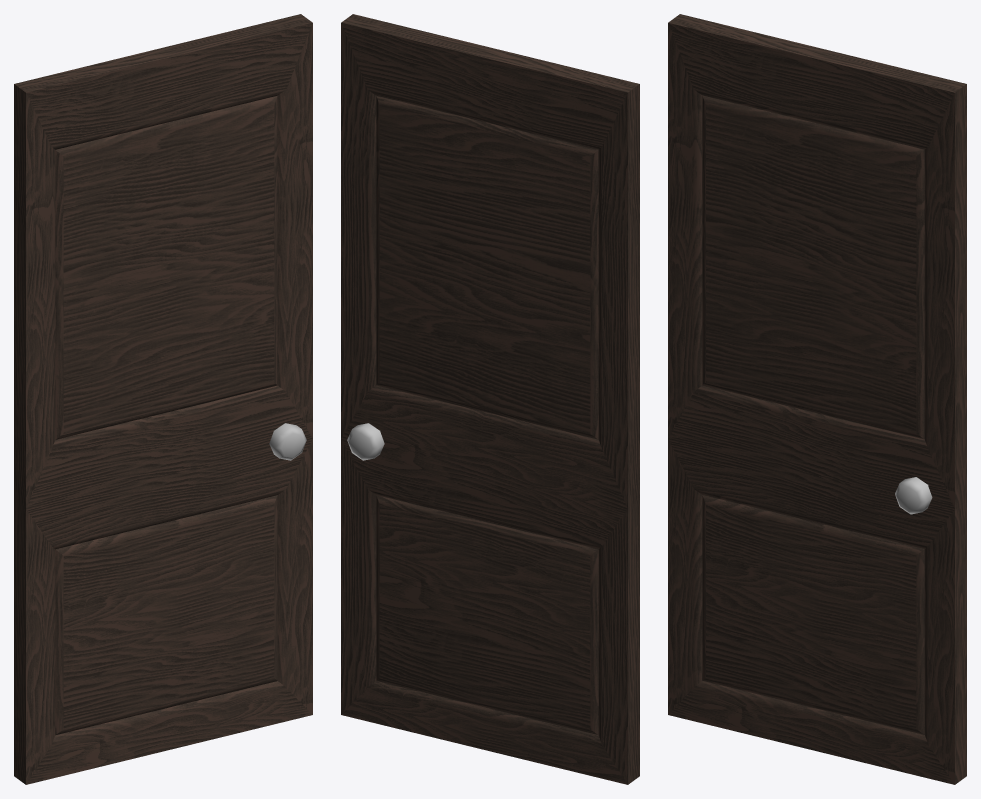
The model's file is door_005.fbx.
3 renders of one model, left to right at view 1: azimuth 30°, elevation 25°; view 2: azimuth 150°, elevation 25°; view 3: azimuth 330°, elevation 25°, orthographic.
Parts seen in each view (by area): view 1: door_005; view 2: door_005; view 3: door_005.
Boxes of the visible parts, bbox=[...] form: door_005: bbox=[14, 14, 312, 784]; door_005: bbox=[341, 14, 639, 784]; door_005: bbox=[668, 14, 966, 784].
Bounding box in the file's own units: 95.15 × 23.13 × 219.
